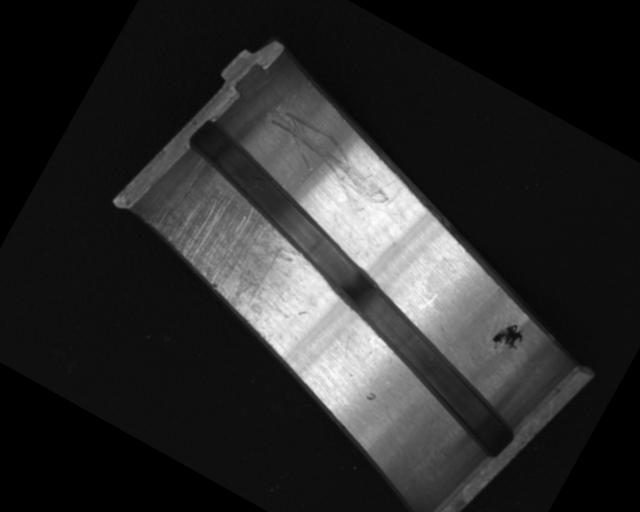blot: (488, 316, 529, 360)
bruise: (363, 388, 379, 404)
gap: (123, 115, 580, 465)
nick: (250, 101, 406, 221)
scratch: (122, 148, 337, 346)
